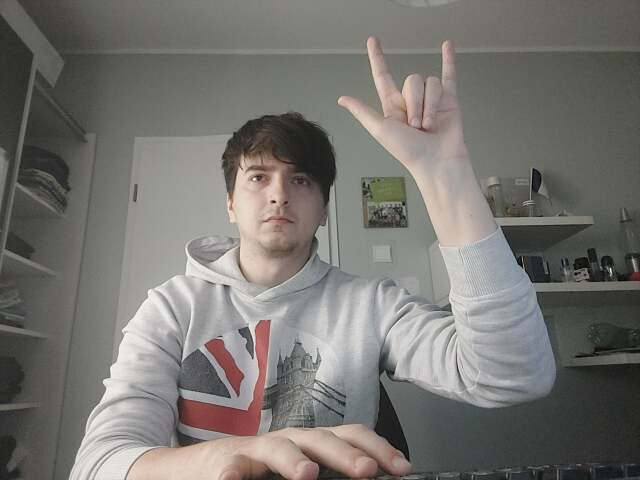love_you: (337, 32, 463, 155)
